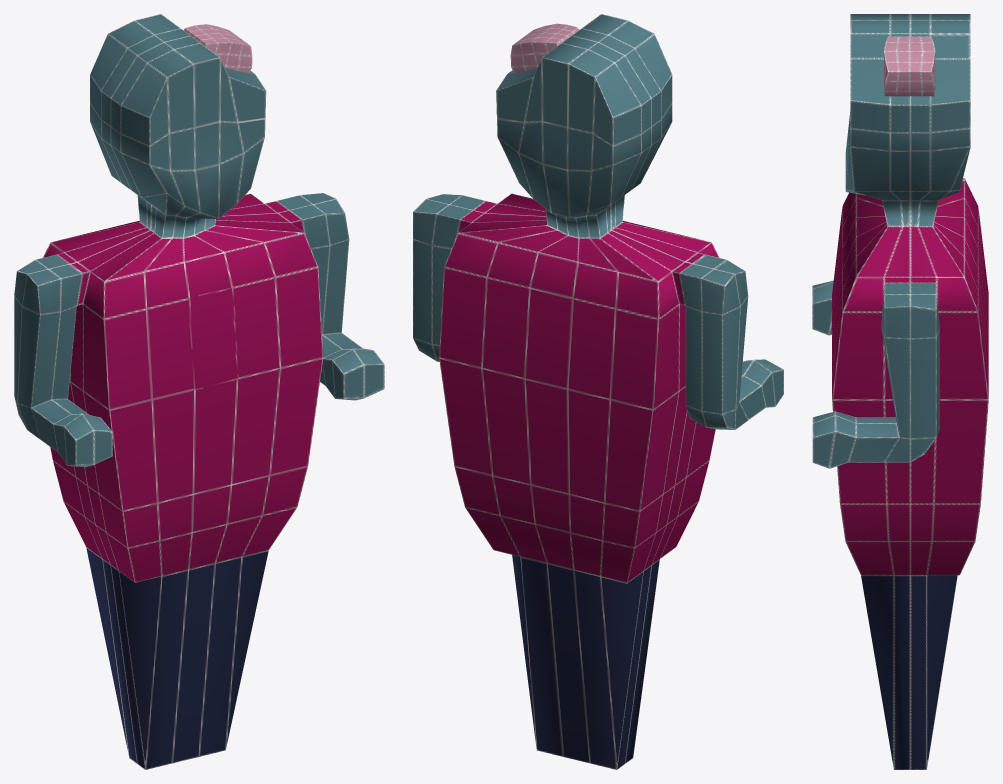
File: dm_strongZombie.fbx
3 views of the same model, side by side, from view 1: azimuth 30°, elevation 25°; view 2: azimuth 150°, elevation 25°; view 3: azimuth 270°, elevation 25° (orthographic).
Parts seen in each view (by area): view 1: StrongZombieModel; view 2: StrongZombieModel; view 3: StrongZombieModel.
Part boxes in pixels (x1,y1,x2,y2): StrongZombieModel: (14,14,384,769); StrongZombieModel: (413,14,783,769); StrongZombieModel: (812,14,988,769).
Bounding box in the file's own units: 83.42 × 180 × 39.78.
